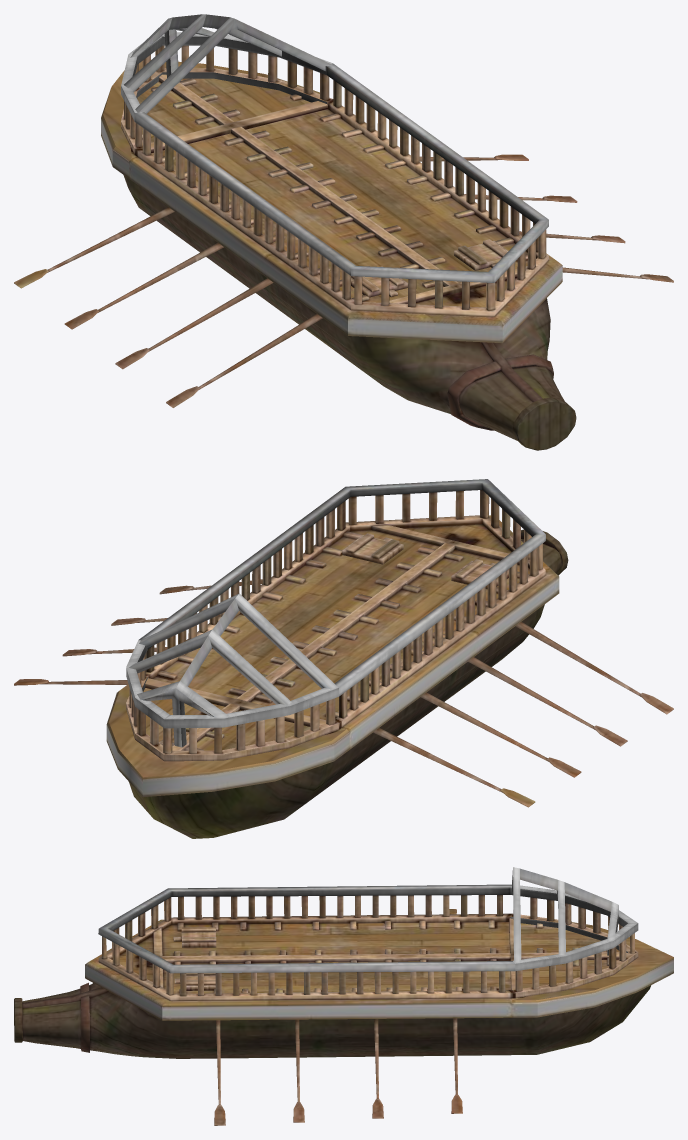
The model's file is body-base.glb.
3 views of the same model, one above another, from view 1: azimuth 30°, elevation 25°; view 2: azimuth 150°, elevation 25°; view 3: azimuth 270°, elevation 25° (orthographic). The views are drawn at different scales.
Bounding box in the file's own units: 4.85 × 2.07 × 6.64.
Materials: 1 (1 with a texture image).
